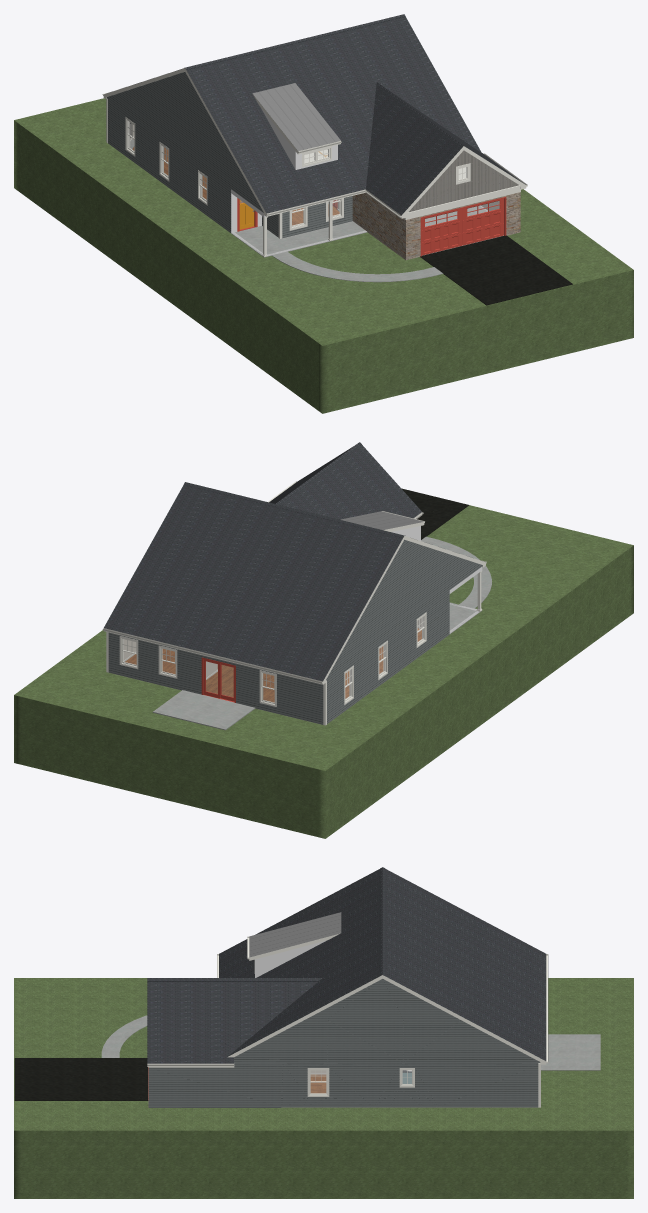
Rendered from house.dae.
3 renders of one model, top to bottom at view 1: azimuth 30°, elevation 25°; view 2: azimuth 150°, elevation 25°; view 3: azimuth 270°, elevation 25°, orthographic.
Visible parts, largest first — view 1: geo_132, geo_131, geo_155, geo_11, geo_183, geo_61, geo_201, geo_185, geo_158, geo_190, geo_127, geo_89; view 2: geo_132, geo_131, geo_155, geo_11, geo_61, geo_127, geo_71, geo_183, geo_158, geo_185; view 3: geo_132, geo_131, geo_155, geo_183, geo_11, geo_61, geo_158, geo_89.
Part boxes in pixels (x1,y1,x2,y2): geo_132: (14, 98, 633, 413); geo_131: (184, 14, 525, 215); geo_155: (107, 72, 352, 238); geo_11: (102, 68, 527, 257); geo_183: (420, 235, 572, 305); geo_61: (130, 139, 486, 282); geo_201: (352, 192, 520, 260); geo_185: (237, 196, 506, 256); geo_158: (252, 83, 340, 150); geo_190: (408, 150, 518, 212); geo_127: (128, 121, 499, 226); geo_89: (231, 108, 337, 232); geo_132: (14, 505, 633, 838); geo_131: (104, 442, 421, 681); geo_155: (108, 539, 482, 724); geo_11: (102, 481, 486, 725); geo_61: (152, 536, 491, 730); geo_127: (123, 616, 423, 702); geo_71: (125, 628, 421, 702); geo_183: (401, 488, 468, 539); geo_158: (340, 511, 423, 529); geo_185: (201, 657, 235, 702); geo_132: (14, 978, 633, 1198); geo_131: (147, 867, 546, 1063); geo_155: (148, 979, 540, 1107); geo_183: (14, 1058, 148, 1100); geo_11: (147, 933, 548, 1107); geo_61: (101, 1015, 600, 1070); geo_158: (249, 912, 341, 957); geo_89: (255, 941, 325, 977).
Size of the model in its own units: 720 by 1235 by 443.
Materials: 57 (29 with a texture image).
